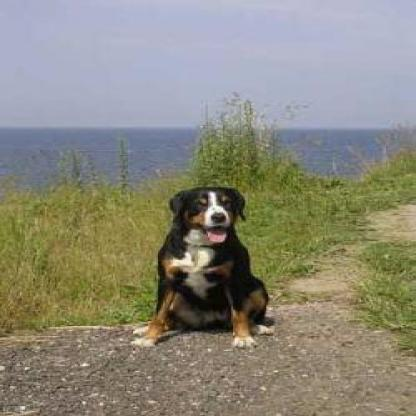EntleBucher: (126, 187, 278, 346)
